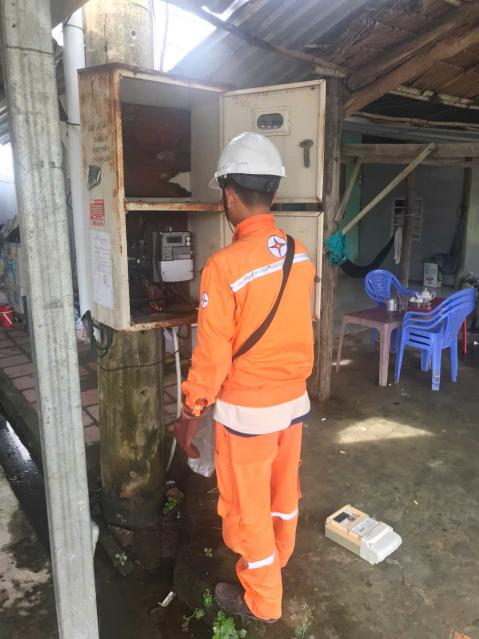gloves: (156, 391, 211, 462)
helmet: (205, 134, 305, 197)
shoes: (200, 575, 276, 625)
